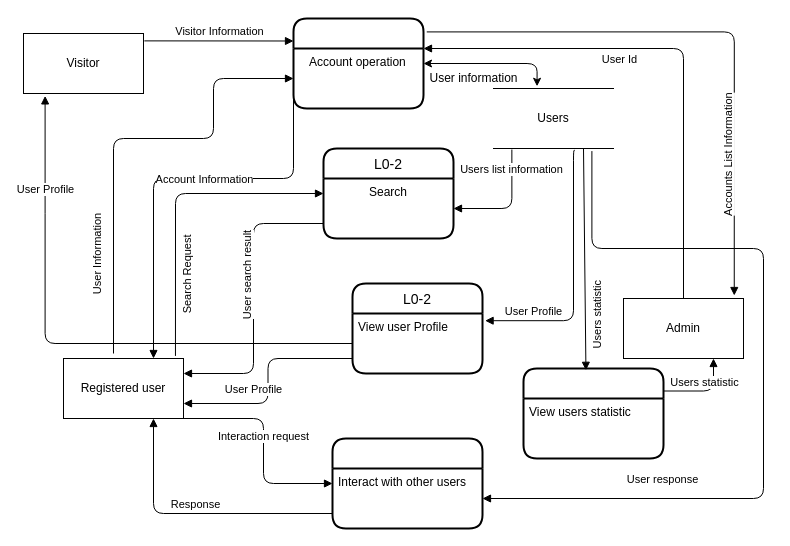
Some shapes in this 790 by 546 pixel diagram are drawn without their labels. The box of each missing label's shape, as (x1, y1, x2, y2) in pixels:
L0-1: (292, 17, 424, 109)
L0-3: (522, 367, 664, 459)
L0-4: (331, 437, 483, 529)
